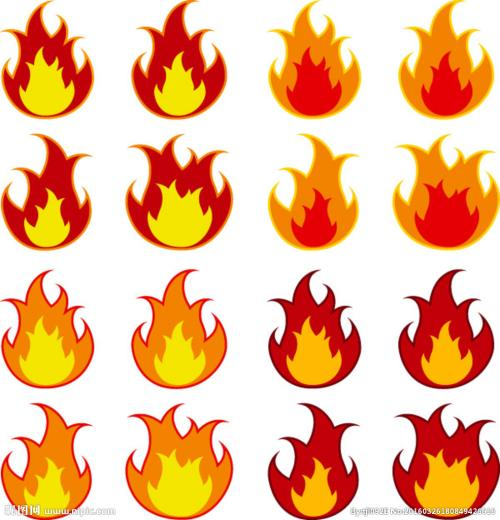fire: (124, 149, 242, 244), (133, 10, 227, 119), (262, 416, 361, 519), (11, 292, 111, 393), (136, 412, 235, 511), (404, 143, 498, 247), (397, 412, 498, 508), (271, 284, 361, 385), (6, 411, 92, 516), (9, 19, 98, 120), (133, 285, 224, 383), (406, 16, 496, 115), (4, 153, 92, 251), (406, 282, 489, 382), (278, 148, 356, 247)
